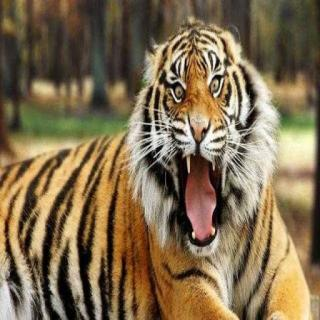Tiger: (0, 19, 312, 320)
